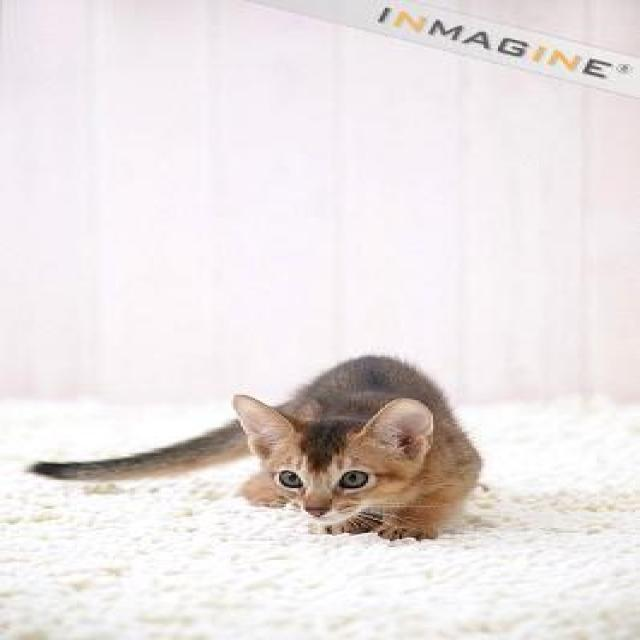cat: (29, 356, 482, 540)
